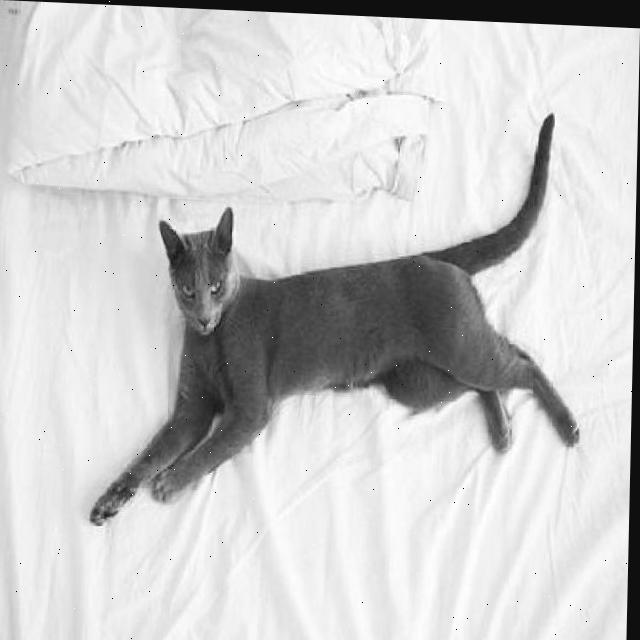Cat: (87, 90, 588, 552)
